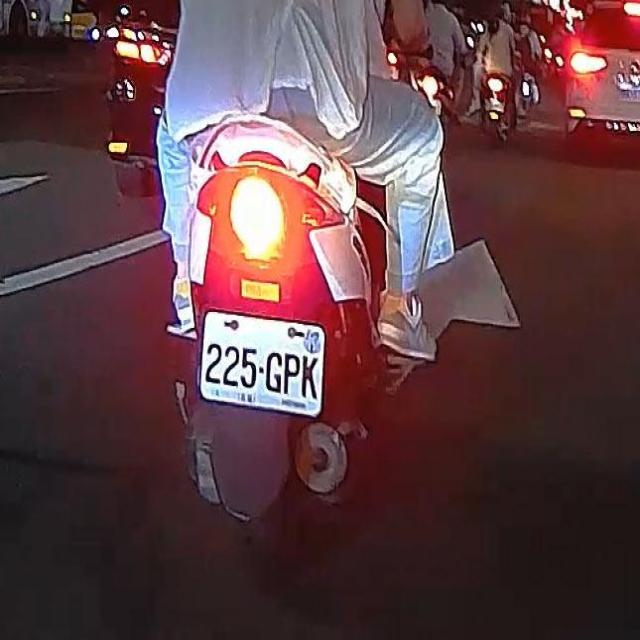license-plate: (196, 304, 326, 428)
